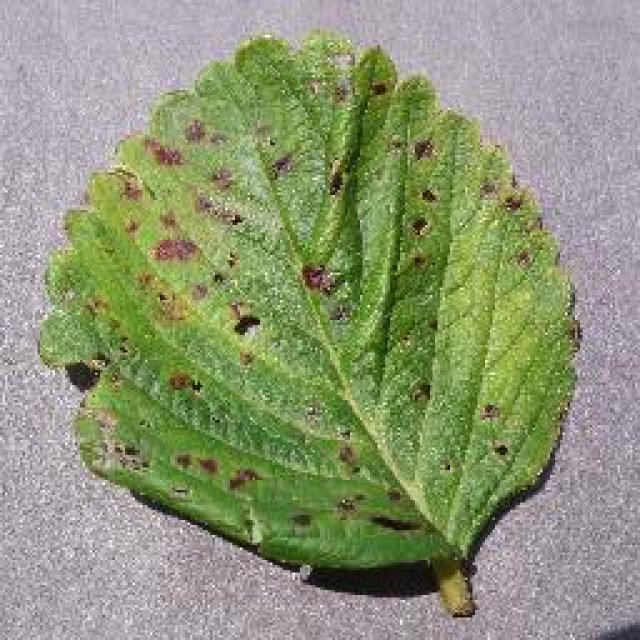Strawberry leaf scorch: (152, 140, 456, 485)
